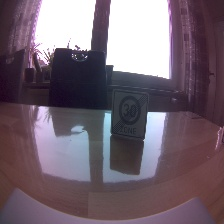dreisiger_zone_ende: (109, 89, 148, 142)
